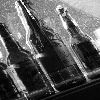beer: (16, 2, 86, 83)
